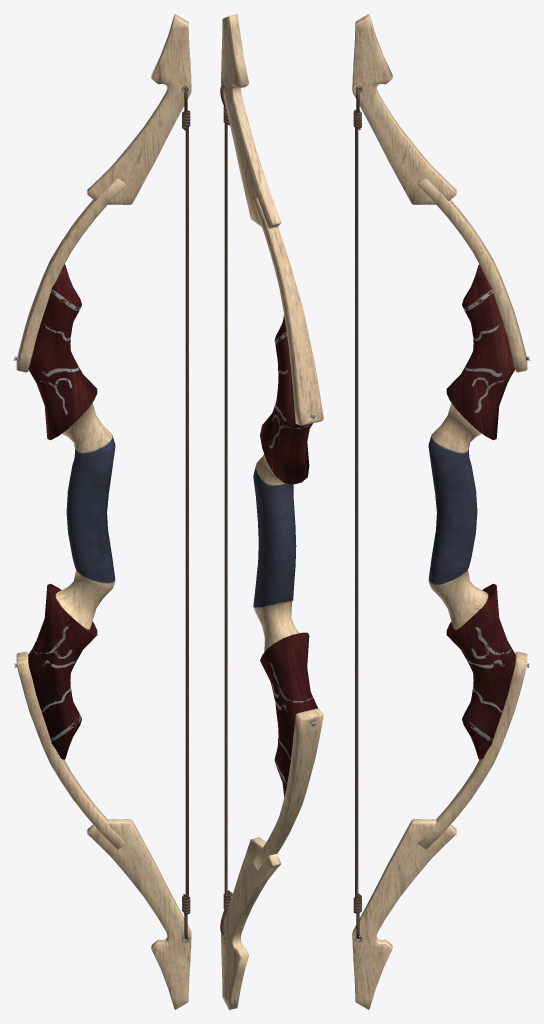
File: bow-wood.glb
3 views of the same model, side by side, from view 1: azimuth 90°, elevation 25°; view 2: azimuth 210°, elevation 25°; view 3: azimuth 270°, elevation 25° (orthographic).
Parts seen in each view (by area): view 1: BOW_CORE_LP_0, Bow_part2_LP_2, Bow_part_1_LP_1, Cylinder_3; view 2: BOW_CORE_LP_0, Bow_part2_LP_2, Bow_part_1_LP_1, Cylinder_3; view 3: BOW_CORE_LP_0, Bow_part2_LP_2, Bow_part_1_LP_1, Cylinder_3.
Boxes of the visible parts, <box> form: BOW_CORE_LP_0: <box>28,264,115,759</box>; Bow_part2_LP_2: <box>87,14,191,1009</box>; Bow_part_1_LP_1: <box>16,179,125,849</box>; Cylinder_3: <box>182,86,190,938</box>; BOW_CORE_LP_0: <box>253,315,318,796</box>; Bow_part2_LP_2: <box>221,14,281,1009</box>; Bow_part_1_LP_1: <box>253,198,323,869</box>; Cylinder_3: <box>220,82,232,934</box>; BOW_CORE_LP_0: <box>428,264,515,759</box>; Bow_part2_LP_2: <box>352,14,456,1009</box>; Bow_part_1_LP_1: <box>418,179,527,849</box>; Cylinder_3: <box>353,86,361,938</box>.
Bounding box in the file's own units: 1.47 × 35.97 × 5.83.
Materials: 5 (5 with a texture image).
